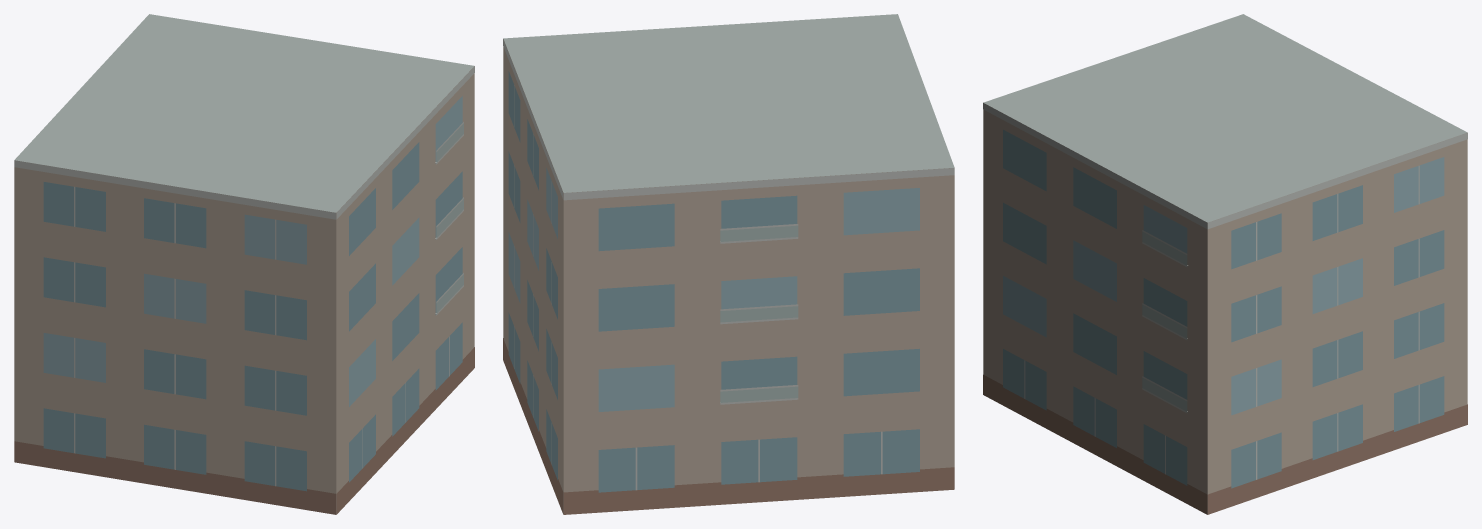
The model's file is survey-upis-32745076.glb.
3 views of the same model, side by side, from view 1: azimuth 30°, elevation 25°; view 2: azimuth 150°, elevation 25°; view 3: azimuth 270°, elevation 25° (orthographic). The views are drawn at different scales.
Parts seen in each view (by area): view 1: survey-upis-32745076.tmp; view 2: survey-upis-32745076.tmp; view 3: survey-upis-32745076.tmp.
Boxes of the visible parts, x1,y1,x2,y2 form: survey-upis-32745076.tmp: (14, 14, 474, 514); survey-upis-32745076.tmp: (503, 14, 954, 514); survey-upis-32745076.tmp: (983, 14, 1467, 514).
Bounding box in the file's own units: 16.24 × 10.6 × 15.94.
